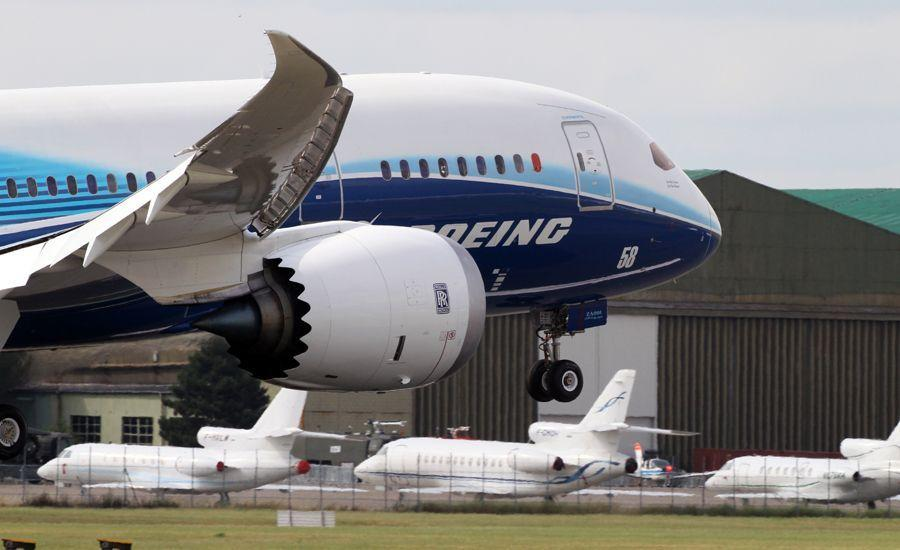airplane: (1, 30, 721, 367), (359, 369, 684, 500), (24, 388, 352, 496), (697, 416, 900, 505)
